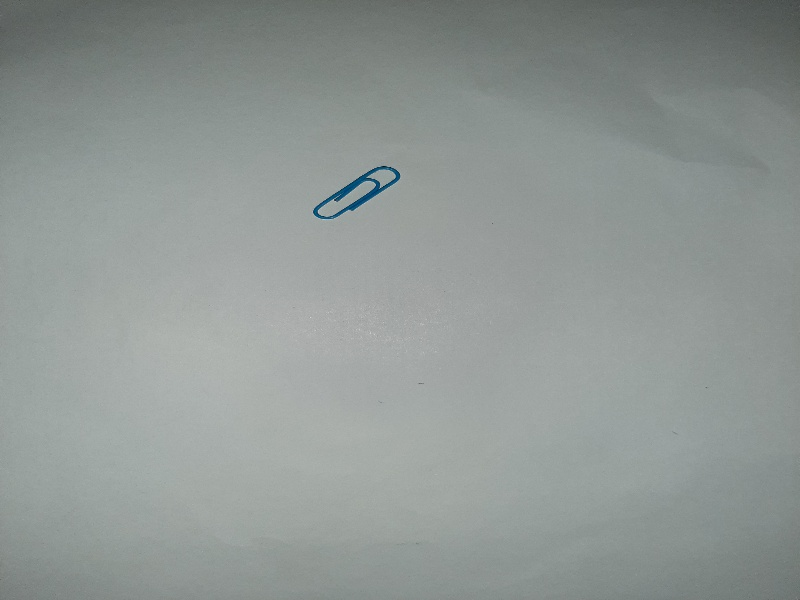Small Jumpclip: (311, 161, 406, 225)
